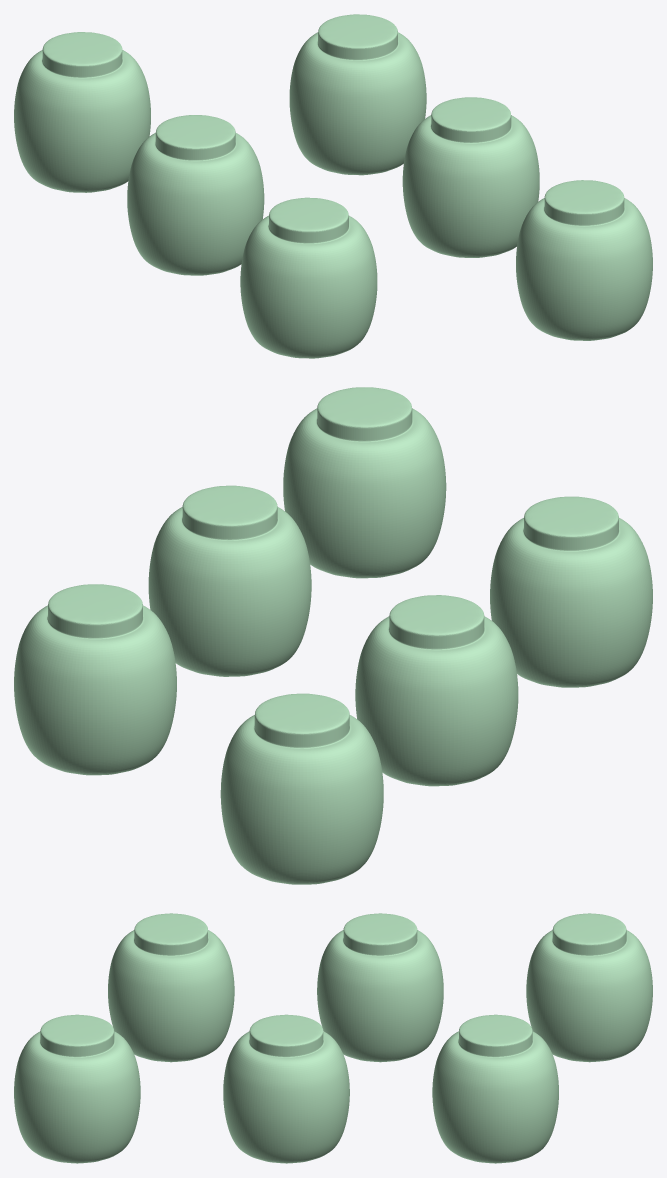
Rendered from pot1.fbx.
3 renders of one model, top to bottom at view 1: azimuth 30°, elevation 25°; view 2: azimuth 150°, elevation 25°; view 3: azimuth 270°, elevation 25°, orthographic. The views are drawn at different scales.
Visible parts, largest first — view 1: Cylinder.010, Cylinder.013; view 2: Cylinder.010, Cylinder.013; view 3: Cylinder.010, Cylinder.013.
Boxes of the visible parts, bbox=[...] form: Cylinder.010: bbox=[127, 14, 652, 358]; Cylinder.013: bbox=[14, 32, 150, 192]; Cylinder.010: bbox=[14, 387, 652, 786]; Cylinder.013: bbox=[220, 693, 383, 884]; Cylinder.010: bbox=[14, 913, 558, 1163]; Cylinder.013: bbox=[526, 913, 652, 1062].
Size of the model in its own units: 59.86 by 21.55 by 104.
